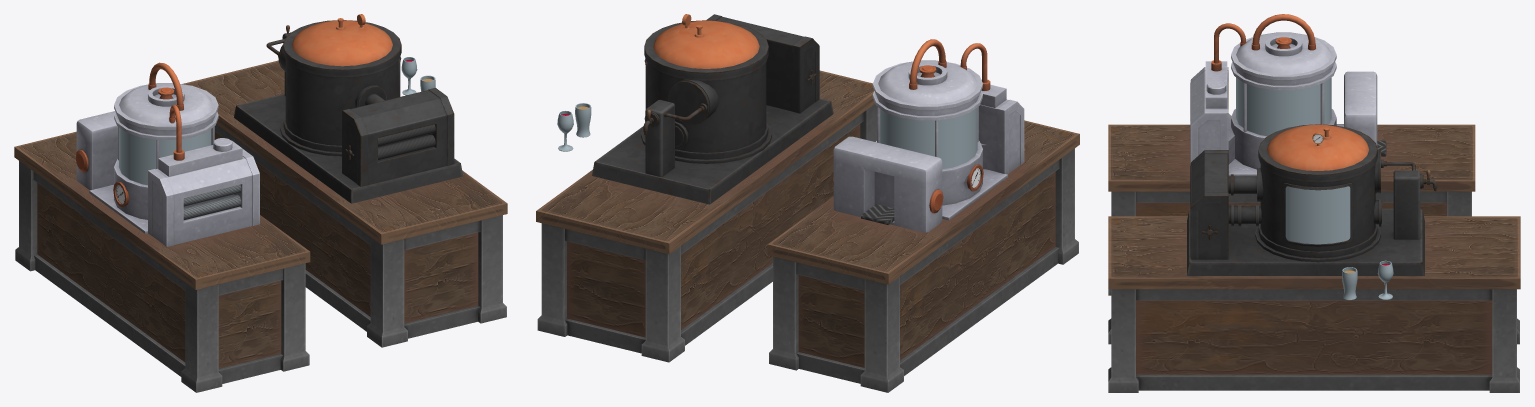
Rendered from Makineler.fbx.
The picture shows the model from 3 angles, left to right: view 1: azimuth 30°, elevation 25°; view 2: azimuth 150°, elevation 25°; view 3: azimuth 270°, elevation 25°; orthographic projection. The views are drawn at different scales.
Parts seen in each view (by area): view 1: SarapMakinesi_low, BiraMakinesi_low.001; view 2: BiraMakinesi_low.001, SarapMakinesi_low, BiraBardak_low; view 3: BiraMakinesi_low.001, SarapMakinesi_low, BiraBardak_low, SarapBardak_low.
Boxes of the visible parts, left/top/right/bottom form: SarapMakinesi_low: left=14, top=62, right=310, bottom=392; BiraMakinesi_low.001: left=182, top=14, right=507, bottom=347; BiraMakinesi_low.001: left=536, top=14, right=876, bottom=362; SarapMakinesi_low: left=767, top=39, right=1079, bottom=392; BiraBardak_low: left=575, top=103, right=591, bottom=137; BiraMakinesi_low.001: left=1108, top=124, right=1520, bottom=392; SarapMakinesi_low: left=1108, top=14, right=1475, bottom=295; BiraBardak_low: left=1342, top=267, right=1357, bottom=300; SarapBardak_low: left=1377, top=260, right=1393, bottom=299.
Bounding box in the file's own units: 442 × 296 × 436.
